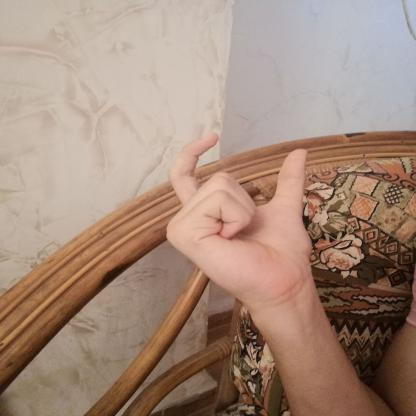NOON: (144, 123, 332, 314)
